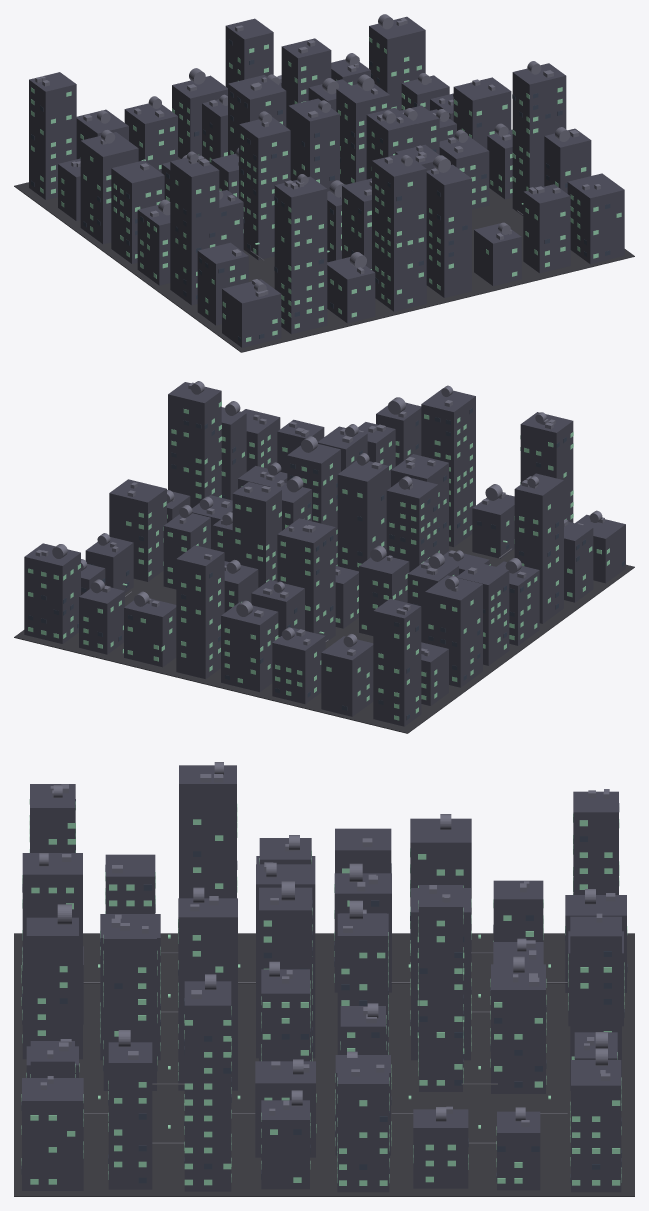
Rendered from district-neon-2x2.glb.
3 views of the same model, one above another, from view 1: azimuth 30°, elevation 25°; view 2: azimuth 150°, elevation 25°; view 3: azimuth 270°, elevation 25° (orthographic). The views are drawn at different scales.
Visible parts, largest first — view 1: geometry_882, geometry_596, geometry_461, geometry_1612, geometry_1805, geometry_671, geometry_1, geometry_1913, geometry_65, geometry_1763, geometry_765, geometry_1303 (+31 smaller); view 2: geometry_967, geometry_1805, geometry_1, geometry_461, geometry_882, geometry_336, geometry_65, geometry_765, geometry_1303, geometry_1389, geometry_270, geometry_1053 (+34 smaller); view 3: geometry_966, geometry_1446, geometry_0, geometry_424, geometry_1805, geometry_1053, geometry_461, geometry_1913, geometry_1573, geometry_1389, geometry_1011, geometry_1612 (+28 smaller).
Boxes of the visible parts, x1,y1,x2,y2 form: geometry_882: (372,152,426,311); geometry_596: (274,176,327,334); geometry_461: (170,155,219,305); geometry_1612: (426,164,471,297); geometry_1805: (512,63,566,215); geometry_671: (239,117,290,260); geometry_1: (29,72,76,199); geometry_1913: (567,173,624,263); geometry_65: (80,132,138,244); geometry_1763: (523,184,570,273); geometry_765: (288,98,339,191); geometry_1303: (369,16,425,110); geometry_967: (176,545,224,679); geometry_1805: (168,382,221,508); geometry_1: (373,598,421,726); geometry_461: (514,473,563,623); geometry_882: (421,388,475,546); geometry_336: (277,518,335,642); geometry_65: (425,575,482,687); geometry_765: (337,461,388,571); geometry_1303: (24,543,80,643); geometry_1389: (109,479,166,581); geometry_270: (221,602,278,692); geometry_1053: (232,482,281,587); geometry_966: (324,1064,634,1196); geometry_1446: (14,1064,324,1196); geometry_0: (324,933,634,1064); geometry_424: (14,933,324,1064); geometry_1805: (184,981,231,1191); geometry_1053: (419,885,462,1091); geometry_461: (179,765,236,898); geometry_1913: (22,1078,83,1190); geometry_1573: (103,919,156,1090); geometry_1389: (337,1058,389,1192); geometry_1011: (491,964,545,1093); geometry_1612: (26,917,78,1046).
Size of the model in its own units: 120 by 43.24 by 120.
